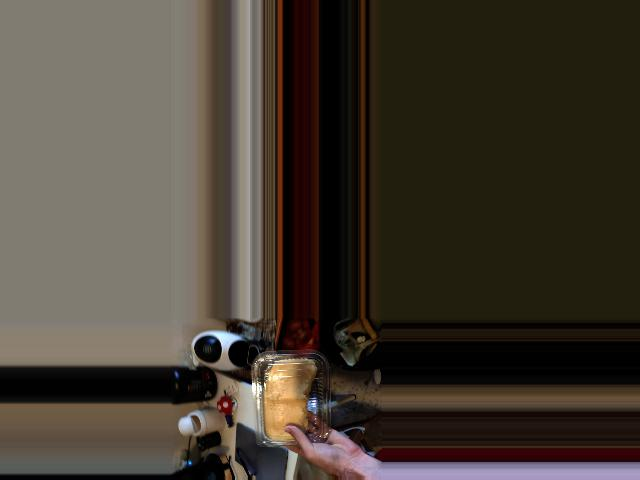cheese: (244, 357, 335, 443)
